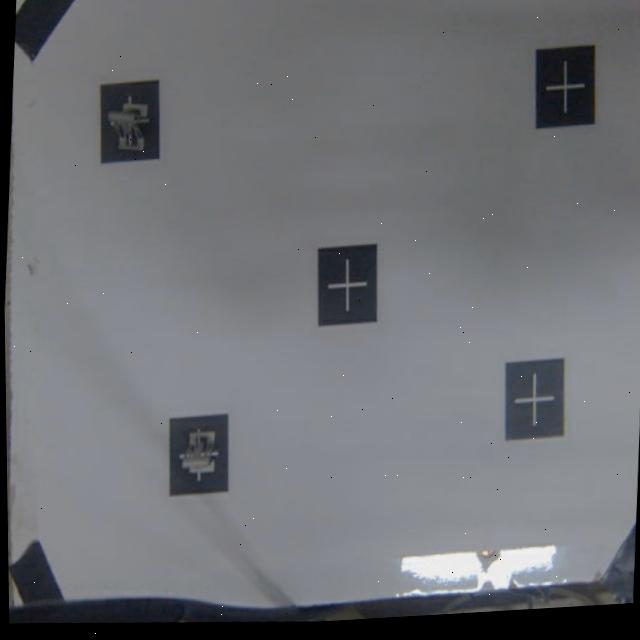pick2: (161, 410, 233, 498)
pick5: (95, 78, 162, 170)
